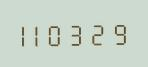nine: (113, 19, 131, 46)
one: (17, 20, 35, 47), (36, 20, 54, 47)
three: (75, 19, 93, 46)
two: (94, 19, 112, 46)
zero: (56, 20, 74, 46)
